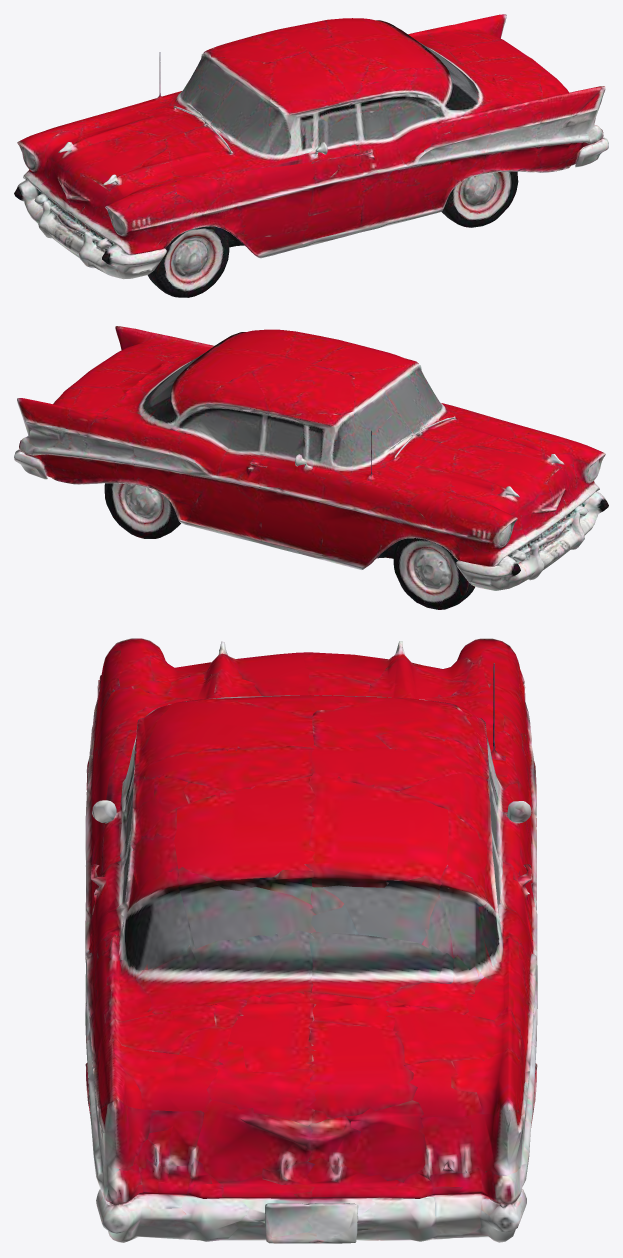
3 views of the same model, one above another, from view 1: azimuth 30°, elevation 25°; view 2: azimuth 150°, elevation 25°; view 3: azimuth 270°, elevation 25° (orthographic). The views are drawn at different scales.
Size of the model in its own units: 1.9 by 0.6142 by 0.7439.
Materials: 1 (1 with a texture image).
